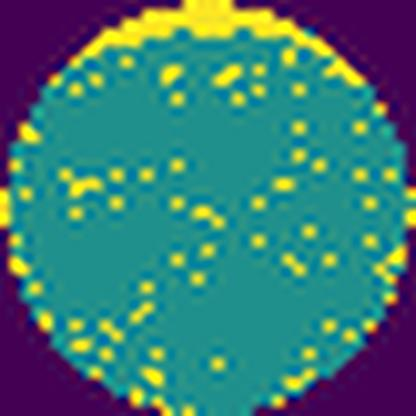Edge-Loc: (68, 0, 374, 91)
